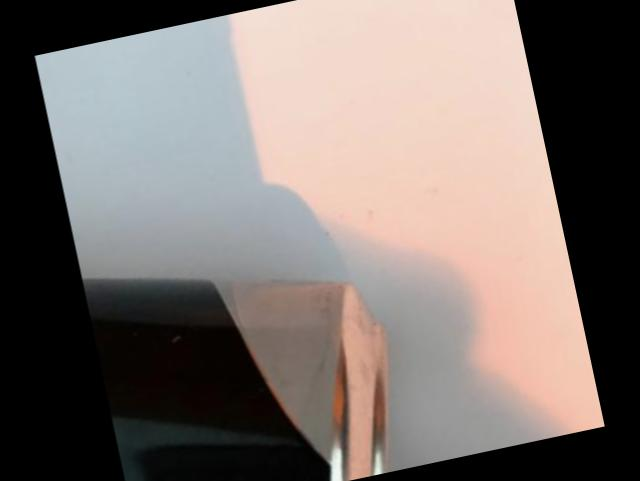metal: (82, 277, 389, 481)
